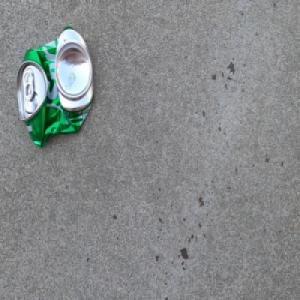SodaCan: (16, 24, 94, 149)
